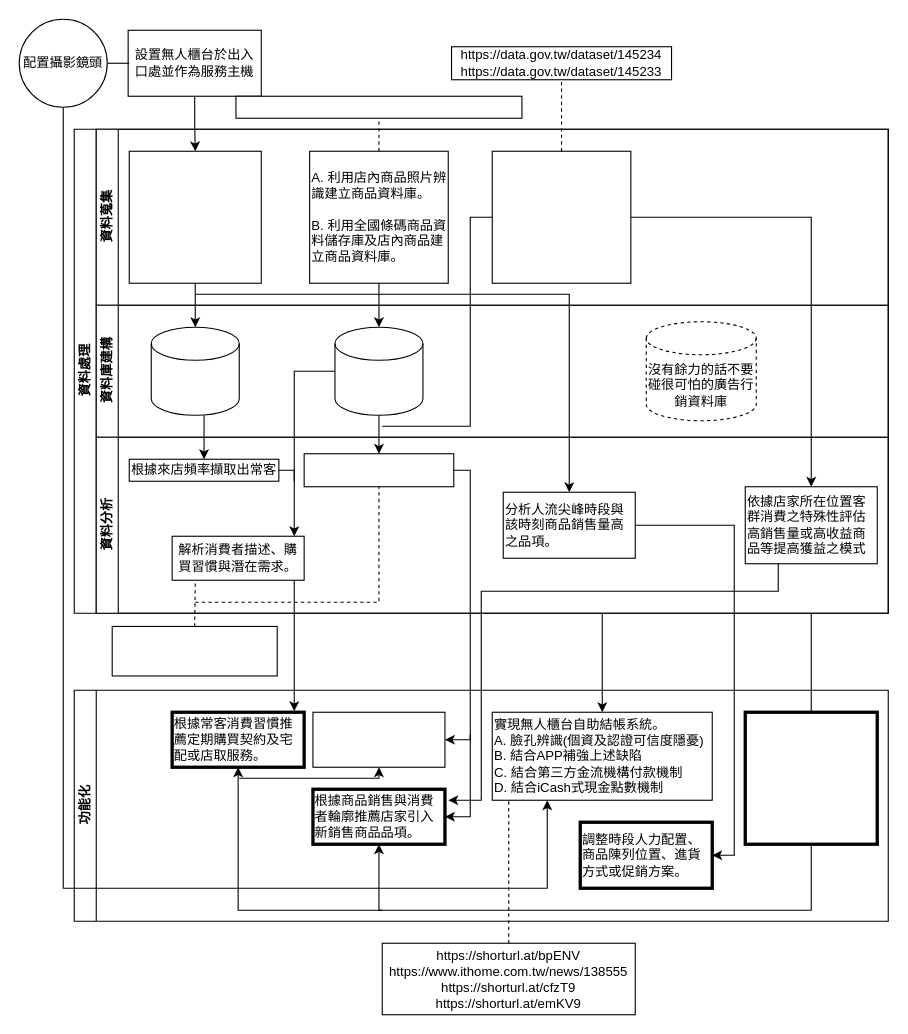
Some shapes in this 908 by 1034 pixel diagram are drawn without their labels. The shapes that lost their labels are listed below. From the top down, each one's centre as x and y in pixels, then its label:
point 378,106: https://www.gs1tw.org/twct/web/ecatalogue.jsp
point 194,216: A. 利用攝影鏡頭進行人臉辨識，並註冊及建立會員資料庫。 B. 利用COVID19實名制登錄註冊及建立會員資料庫並記錄人臉
point 561,216: 審視【商品銷售佔比、來客數與消費金額等資料】是否有不同於平均資料的極端值並將該店視為某特定分野特化型之分店
point 194,370: 會員資料庫
point 378,370: 商品資料庫
point 378,470: 根據商品銷售狀況與人流、消費解析消費者描述
point 194,650: https://shorturl.at/jCSU7 https://shorturl.at/yCFMZ
point 378,739: 根據商品銷售與庫存量自動補貨。
point 810,777: 利用Airflow或其他套件建立可排程定期執行上述工作且誰都能操作的APP，以建立一套各分店皆可直接使用的標準化系統增加可用價值。
